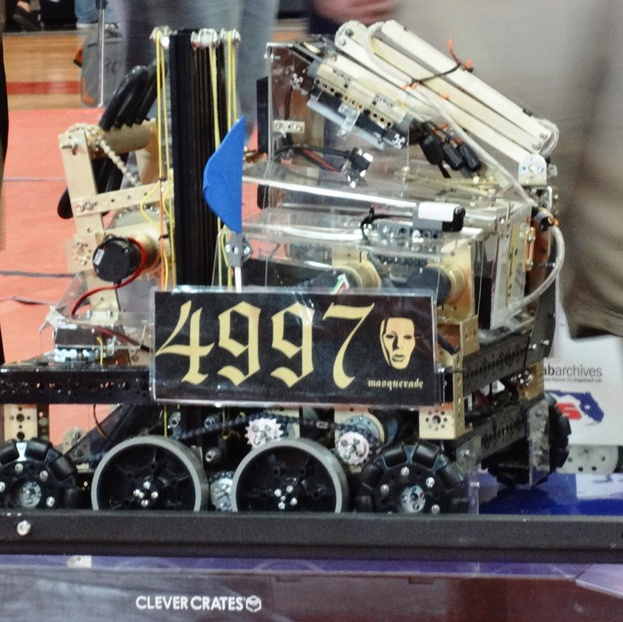robot: (0, 12, 580, 516)
